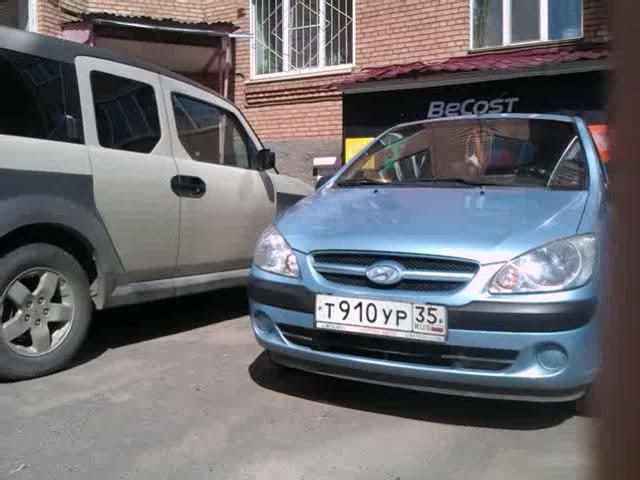car license plate: (315, 291, 445, 345)
